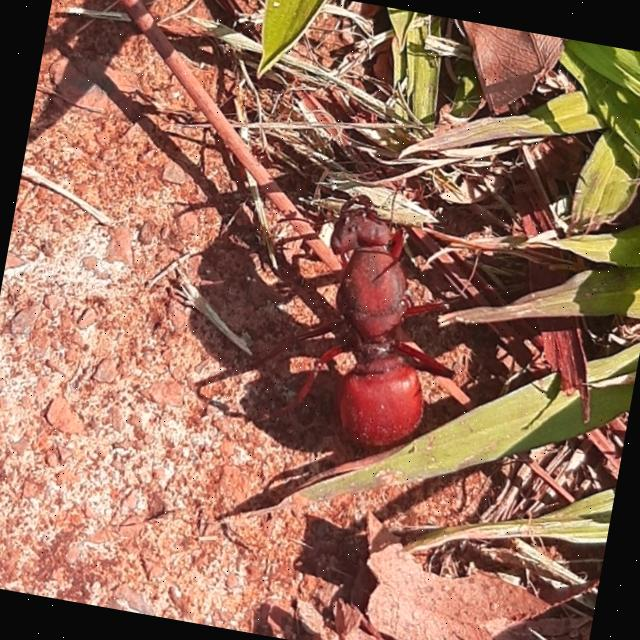Alive-Female-Dealate: (245, 175, 484, 462)
